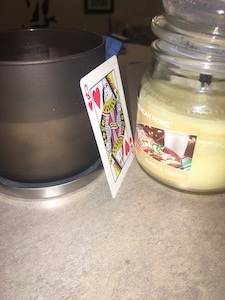QueenOfHearts: (76, 53, 140, 199)
